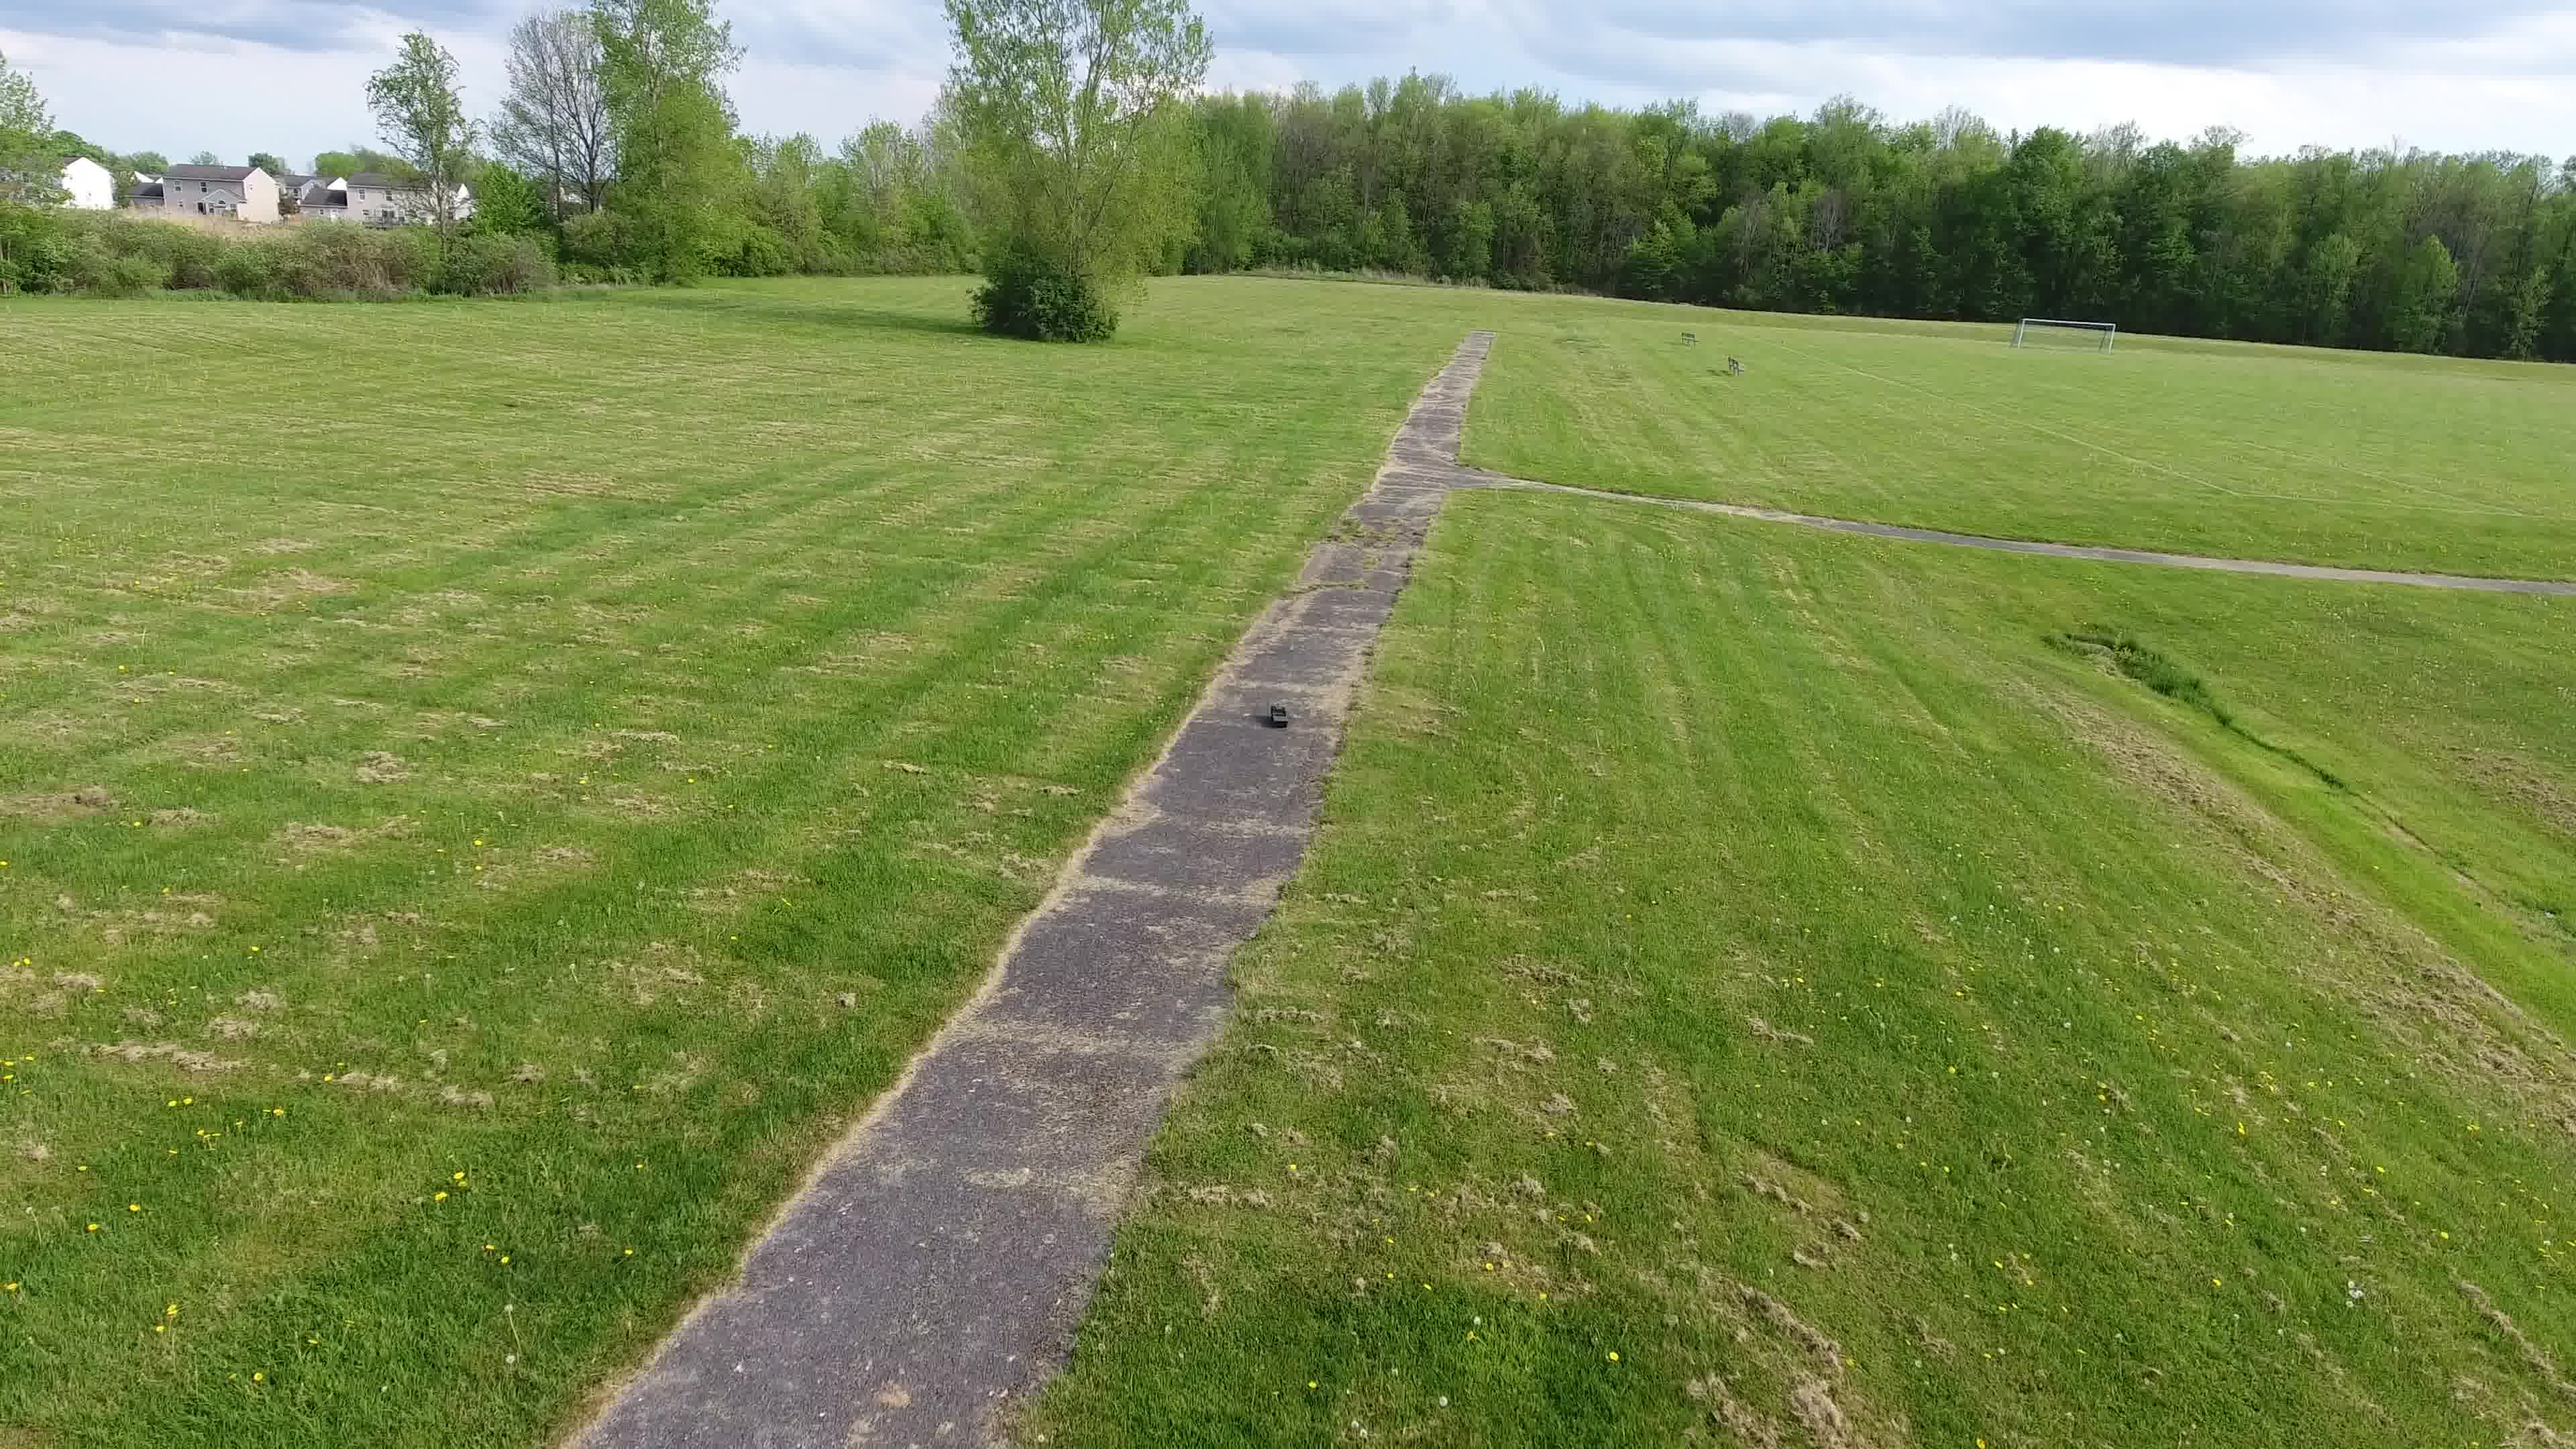transporter9_camo: (1269, 704, 1290, 729)
